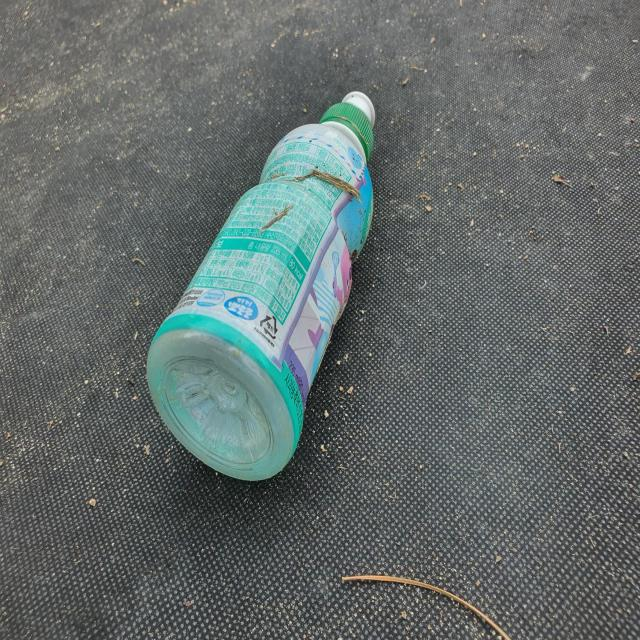plastic: (146, 91, 376, 481)
